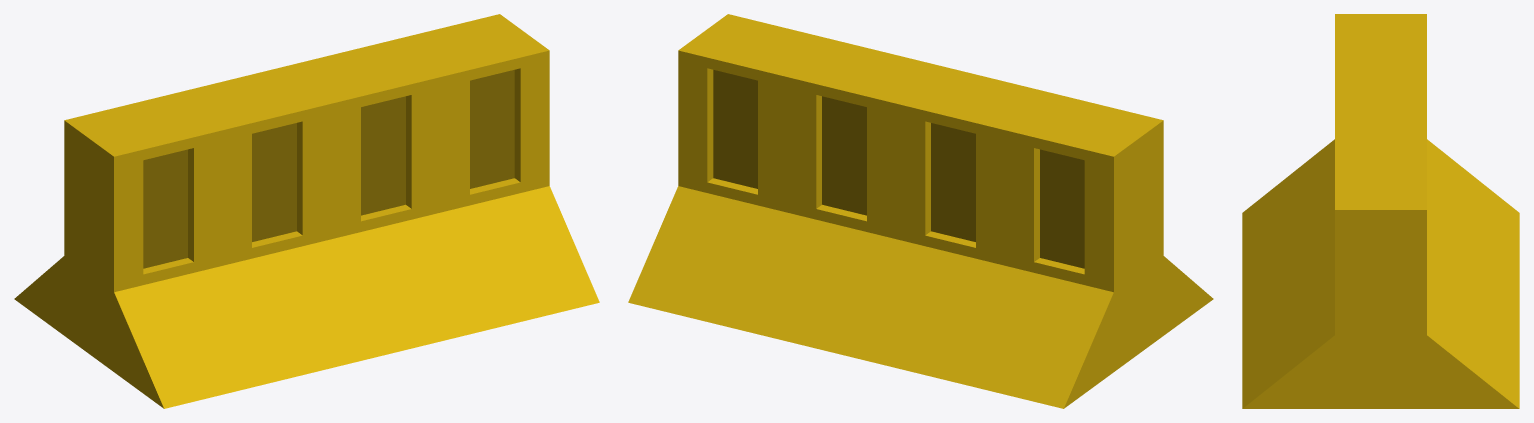
File: traffic-barrier-by-zsky-tSd5uiCgR7.glb
3 views of the same model, side by side, from view 1: azimuth 30°, elevation 25°; view 2: azimuth 150°, elevation 25°; view 3: azimuth 270°, elevation 25° (orthographic). The views are drawn at different scales.
Parts seen in each view (by area): view 1: TrafficBarrier_02_Cube.022; view 2: TrafficBarrier_02_Cube.022; view 3: TrafficBarrier_02_Cube.022.
Boxes of the visible parts, x1,y1,x2,y2 form: TrafficBarrier_02_Cube.022: (14,14,599,408); TrafficBarrier_02_Cube.022: (628,14,1213,408); TrafficBarrier_02_Cube.022: (1242,14,1519,408).
Size of the model in its own units: 15.42 by 7.29 by 9.21.
